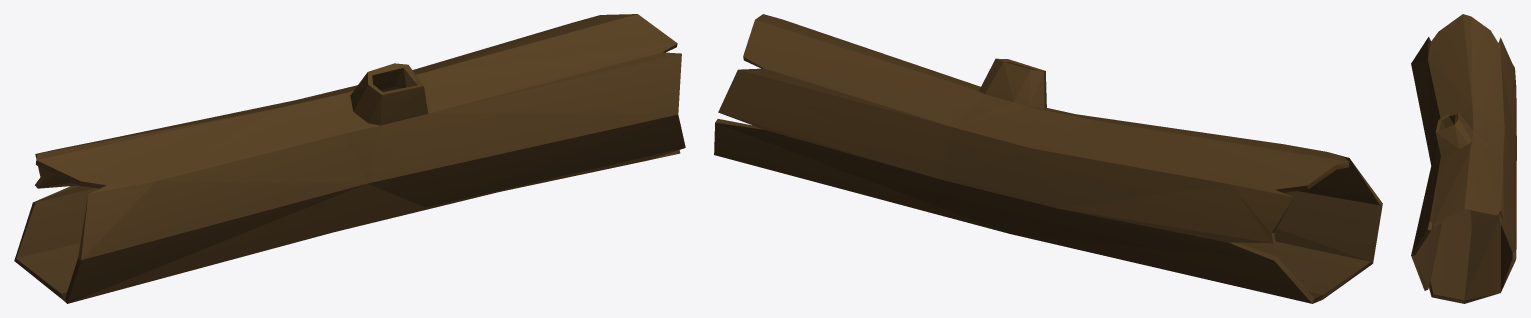
File: Log_01.fbx
The picture shows the model from 3 angles, left to right: view 1: azimuth 30°, elevation 25°; view 2: azimuth 150°, elevation 25°; view 3: azimuth 270°, elevation 25°; orthographic projection. The views are drawn at different scales.
Visible parts, largest first — view 1: Log_01; view 2: Log_01; view 3: Log_01.
Boxes of the visible parts, <box> form: Log_01: <box>14,14,685,303</box>; Log_01: <box>714,14,1382,303</box>; Log_01: <box>1411,14,1516,303</box>.
Size of the model in its own units: 3.07 by 0.7511 by 0.6893.
